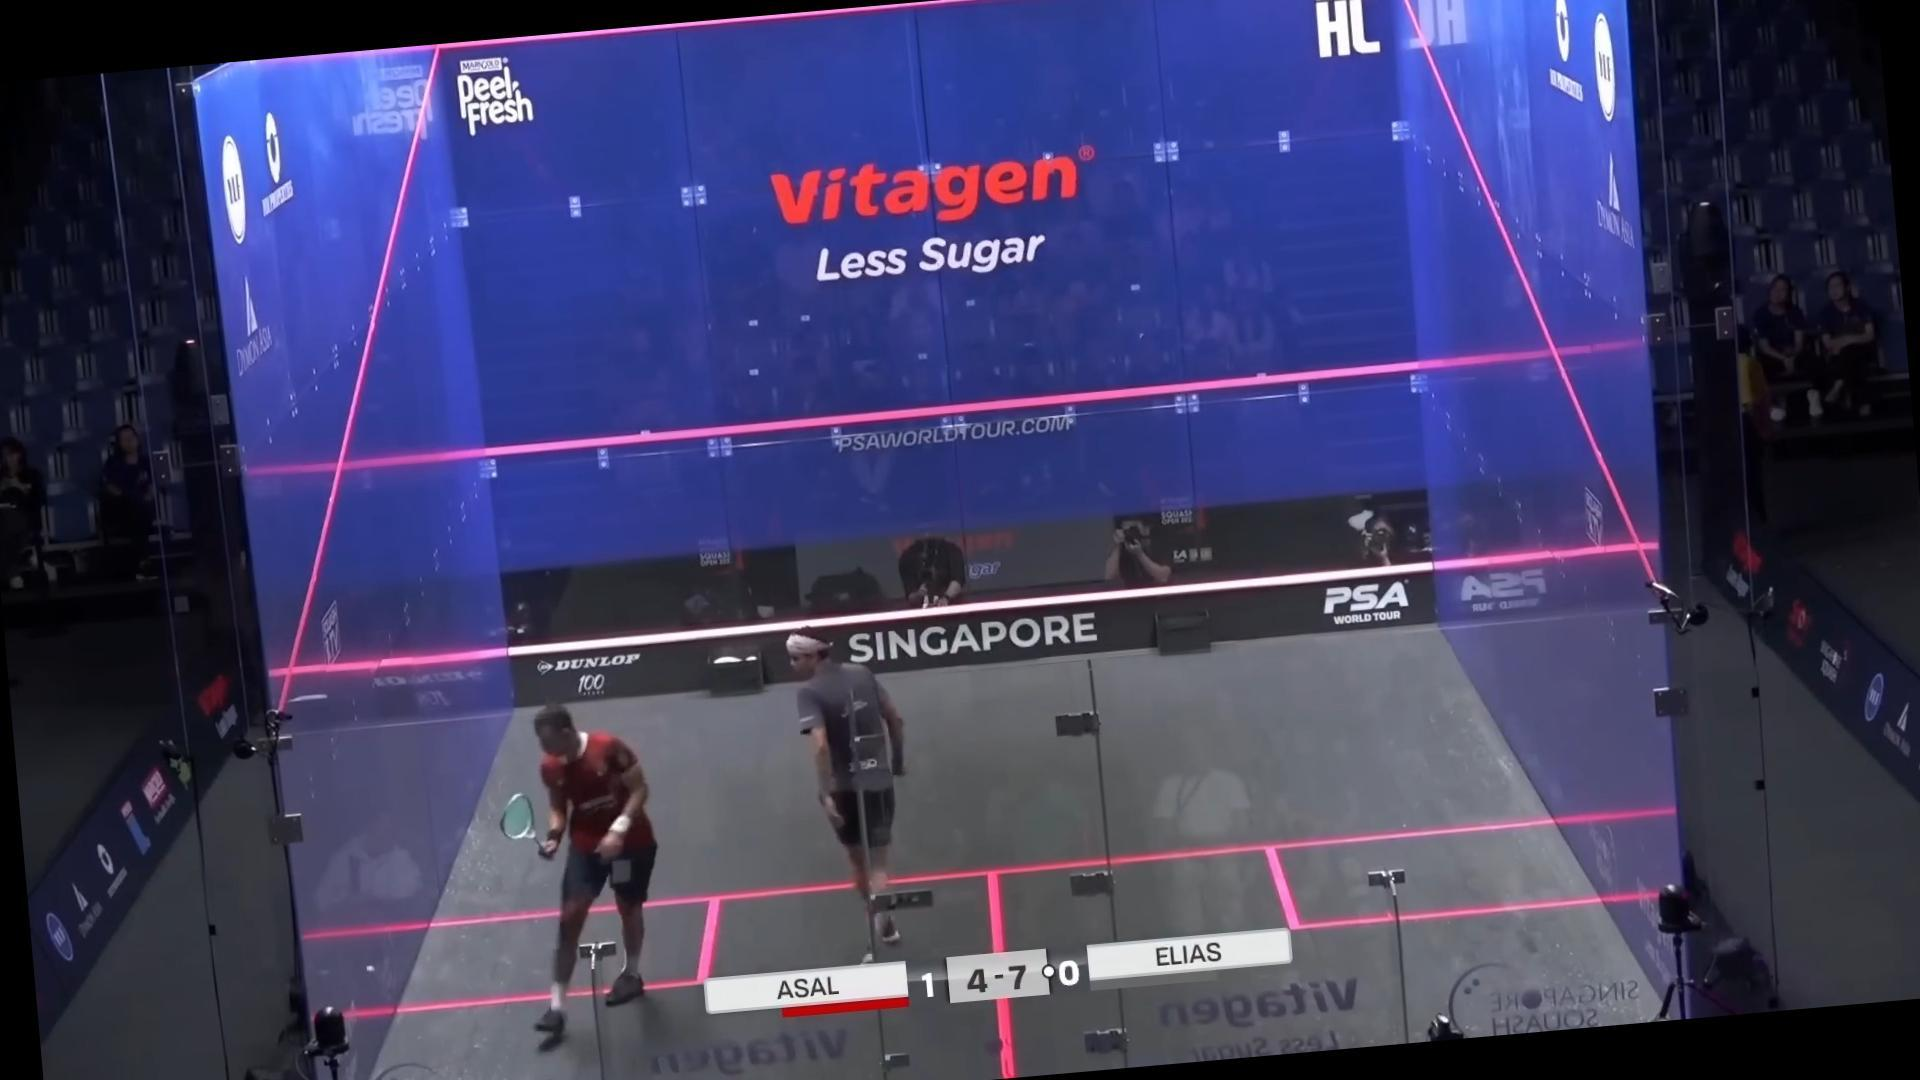Squash-Ball: (355, 948, 392, 992)
